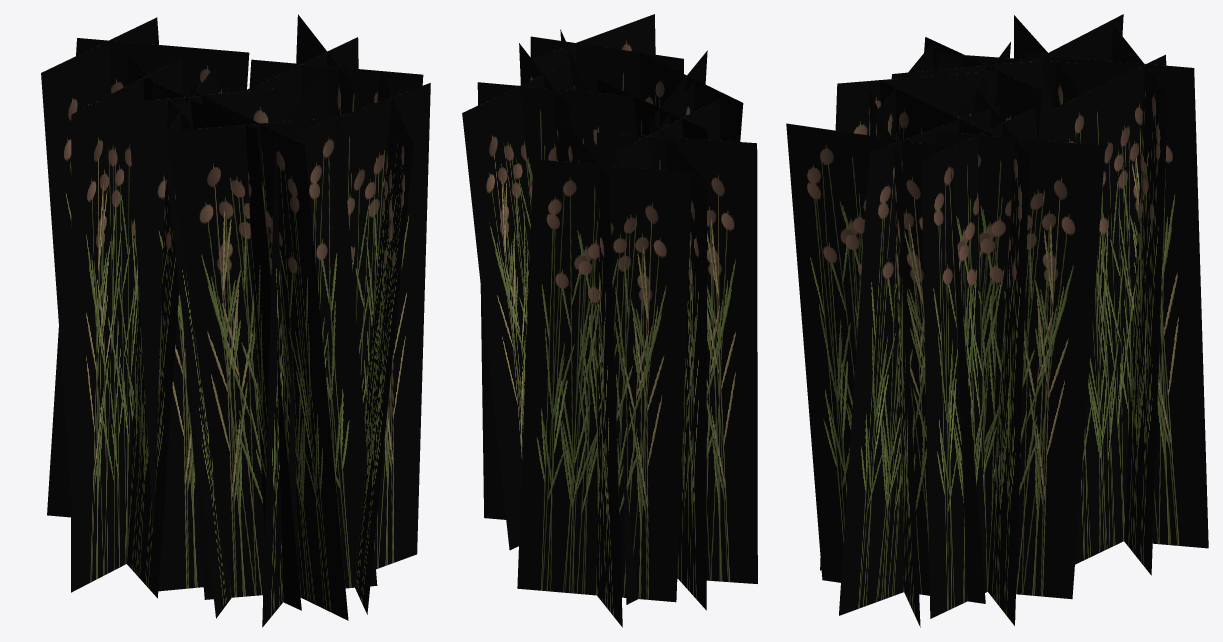
File: tpl_reed_amstel.glb
3 views of the same model, side by side, from view 1: azimuth 30°, elevation 25°; view 2: azimuth 150°, elevation 25°; view 3: azimuth 270°, elevation 25° (orthographic). The views are drawn at different scales.
Visible parts, largest first — view 1: tpl_reed_amstel; view 2: tpl_reed_amstel; view 3: tpl_reed_amstel.
Part boxes in pixels (box(x1,y1,x2,y2)): tpl_reed_amstel: box(41, 14, 430, 627); tpl_reed_amstel: box(462, 14, 757, 627); tpl_reed_amstel: box(786, 14, 1208, 627).
Size of the model in its own units: 1.81 by 2.7 by 2.2.
1 material, 1 textured.
